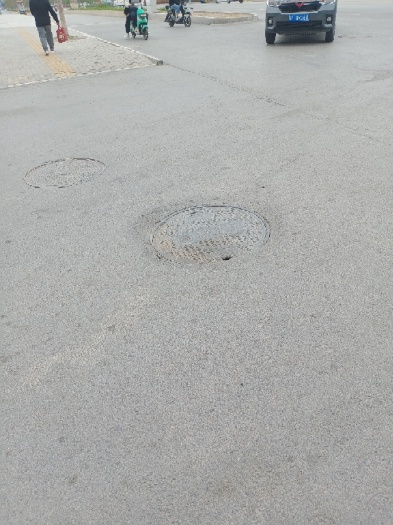good: (150, 204, 271, 262), (23, 157, 106, 188)
